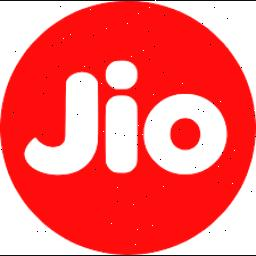i: (142, 89, 232, 181)
j: (18, 66, 102, 178)
